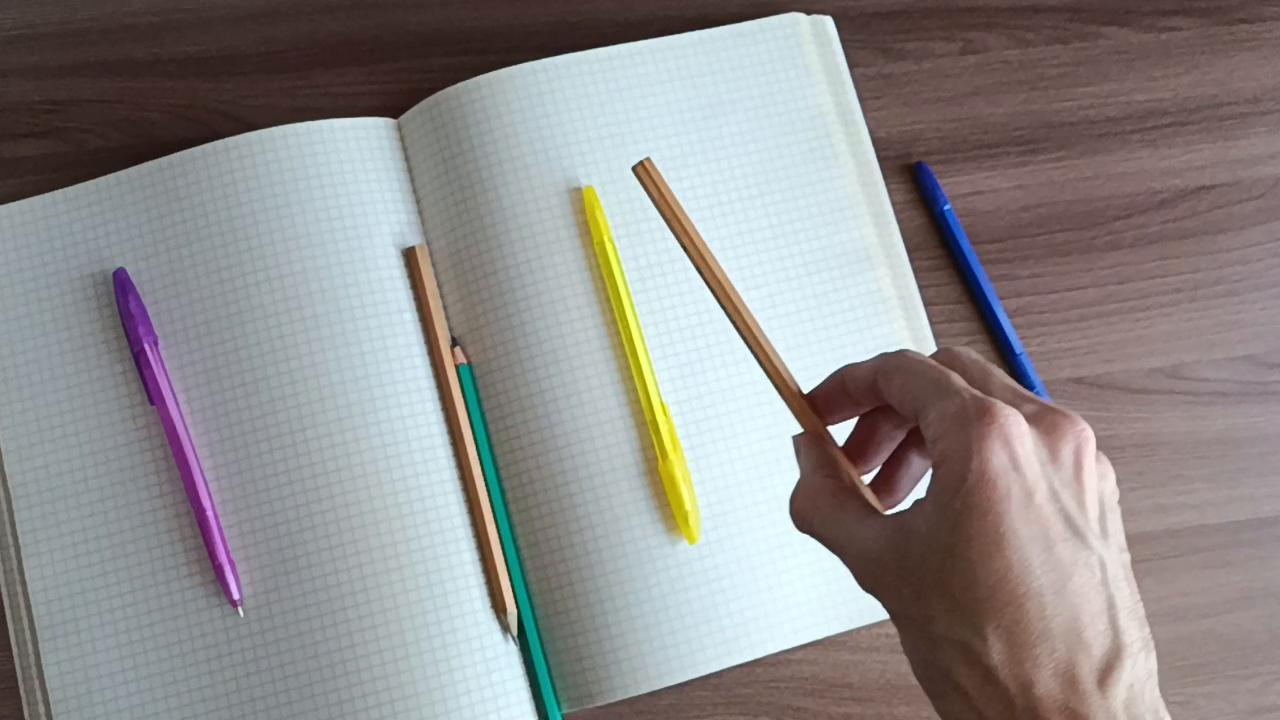pen: (106, 260, 253, 624), (573, 179, 705, 553), (914, 155, 1061, 410)
pencil: (631, 157, 840, 451), (399, 237, 523, 647), (456, 337, 568, 720)
